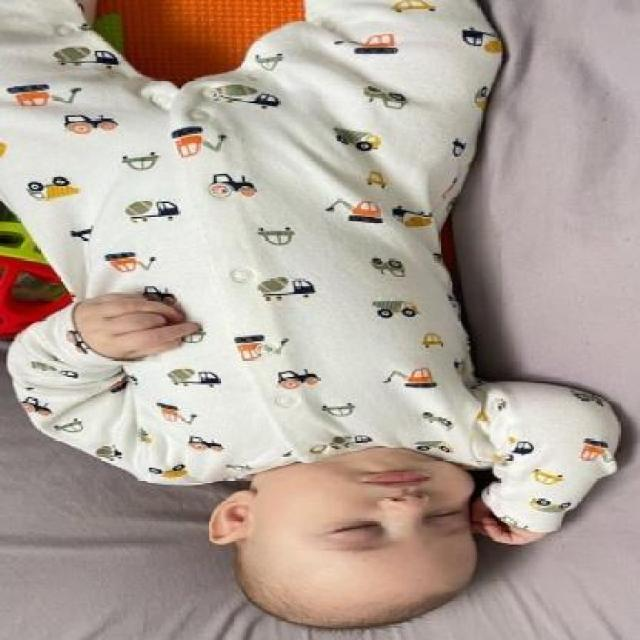baby: (4, 2, 622, 630)
